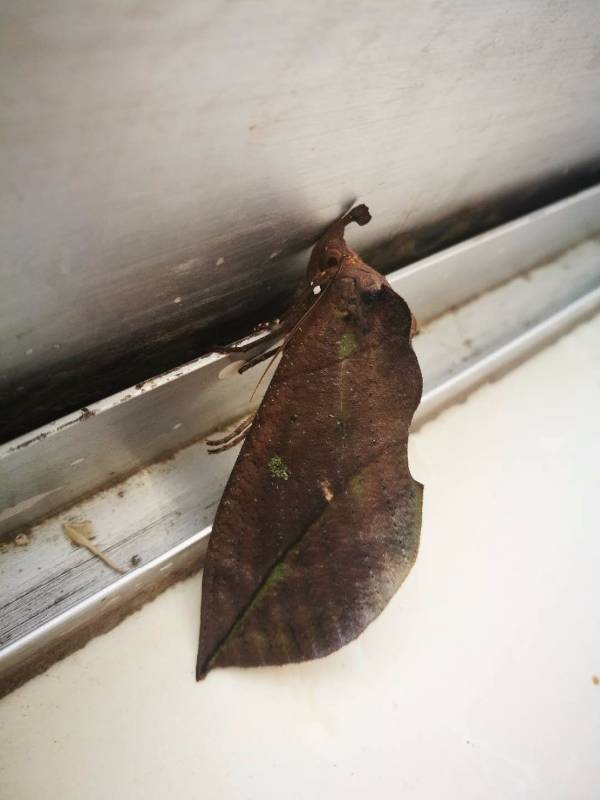feie: (193, 204, 442, 673)
